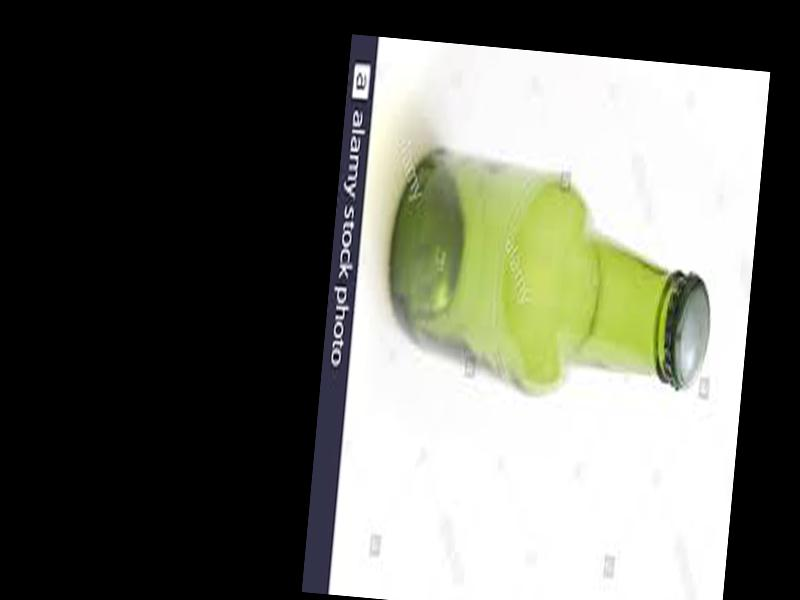Beer: (381, 147, 723, 393)
